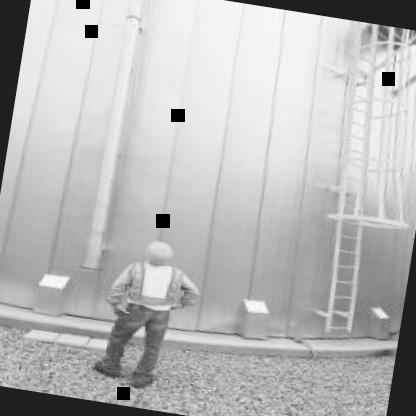helmet: (136, 238, 178, 276)
